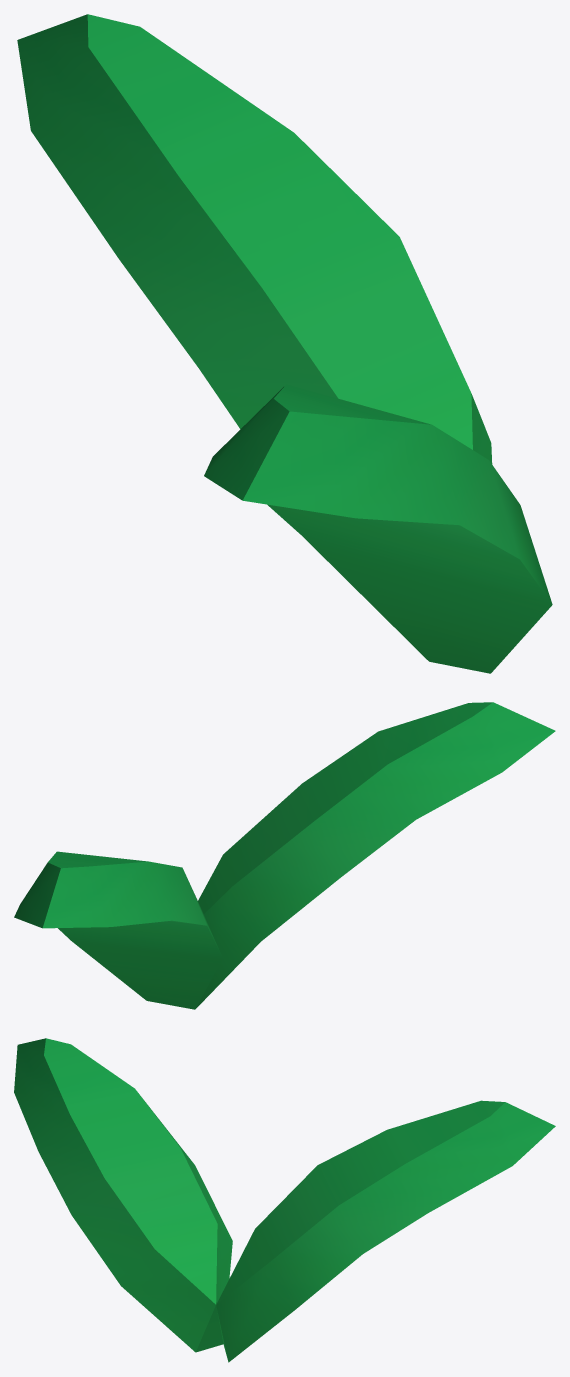
Rendered from Grass_A_2.fbx.
3 views of the same model, one above another, from view 1: azimuth 30°, elevation 25°; view 2: azimuth 150°, elevation 25°; view 3: azimuth 270°, elevation 25° (orthographic). The views are drawn at different scales.
Parts seen in each view (by area): view 1: Grass_A_2; view 2: Grass_A_2; view 3: Grass_A_2.
Part boxes in pixels (x1,y1,x2,y2): Grass_A_2: (17,14,552,673); Grass_A_2: (14,702,555,1009); Grass_A_2: (14,1038,555,1362).
Size of the model in its own units: 16.56 by 13.75 by 29.53.
